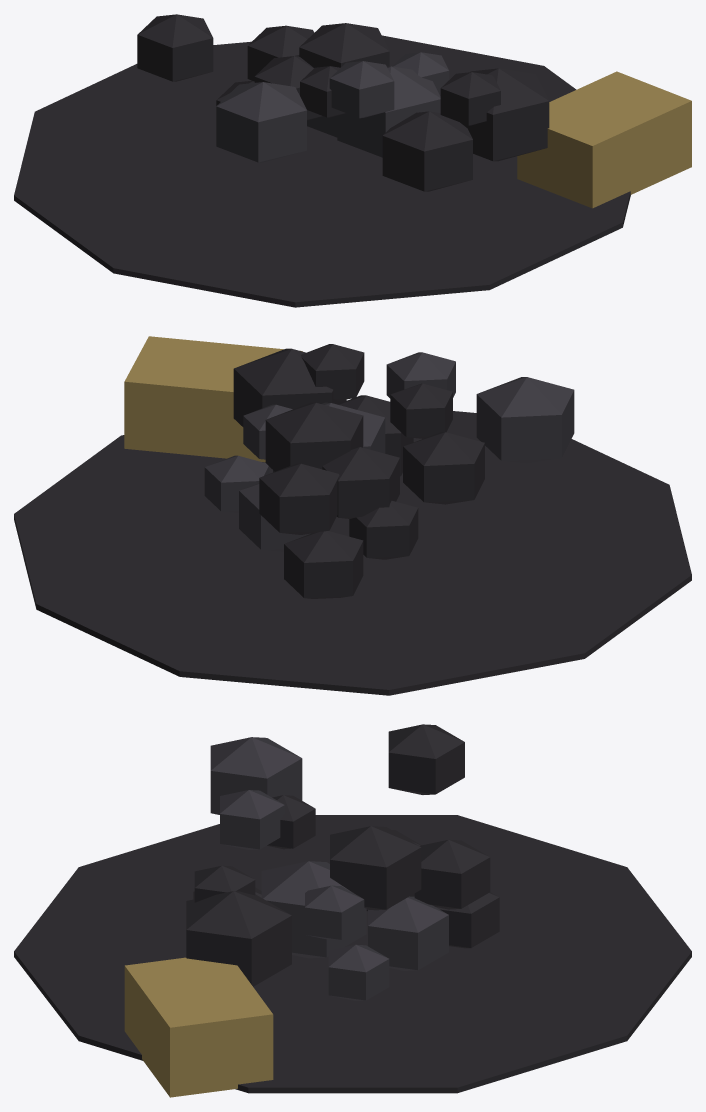
The model's file is a2m_coal_stack.glb.
The picture shows the model from 3 angles, top to bottom: view 1: azimuth 30°, elevation 25°; view 2: azimuth 150°, elevation 25°; view 3: azimuth 270°, elevation 25°; orthographic projection. The views are drawn at different scales.
Visible parts, largest first — view 1: a2m_coal_stack; view 2: a2m_coal_stack; view 3: a2m_coal_stack.
Boxes of the visible parts, <box> form: a2m_coal_stack: <box>14,14,691,307</box>; a2m_coal_stack: <box>14,336,691,695</box>; a2m_coal_stack: <box>14,724,691,1097</box>.
Bounding box in the file's own units: 2.14 × 0.6293 × 2.2.
